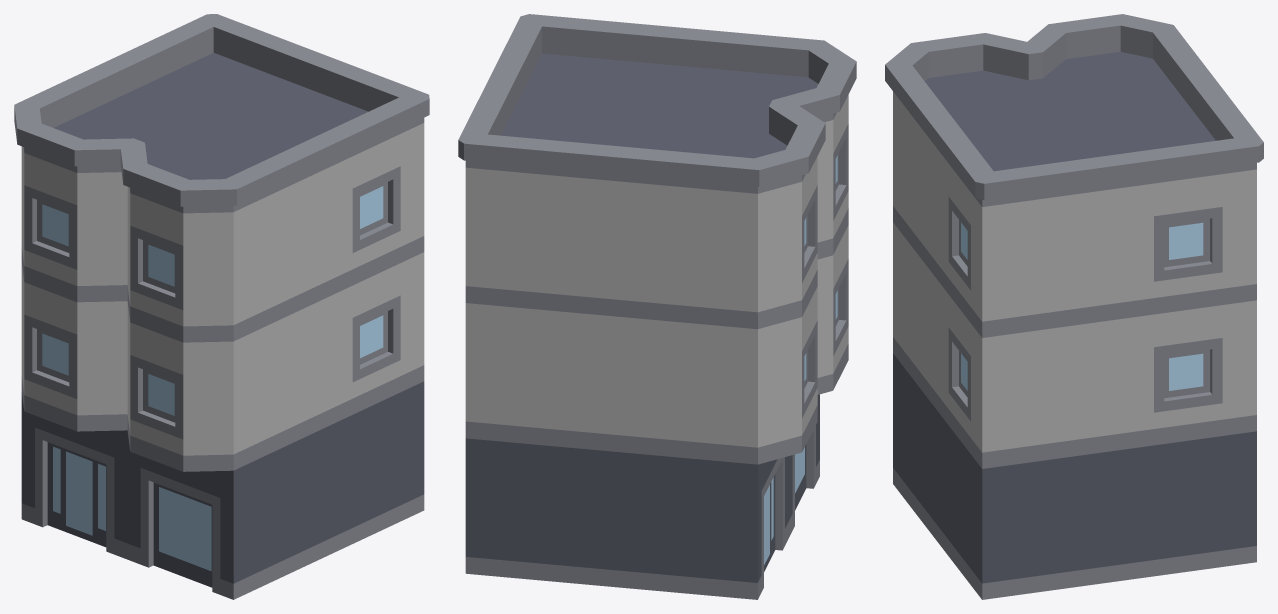
The model's file is variant_15.fbx.
3 views of the same model, side by side, from view 1: azimuth 30°, elevation 25°; view 2: azimuth 150°, elevation 25°; view 3: azimuth 270°, elevation 25° (orthographic). The views are drawn at different scales.
Parts seen in each view (by area): view 1: small_buildingA; view 2: small_buildingA; view 3: small_buildingA.
Part boxes in pixels (box(x1,y1,x2,y2)): small_buildingA: box(14, 14, 429, 599); small_buildingA: box(458, 14, 856, 599); small_buildingA: box(885, 14, 1263, 599).
Bounding box in the file's own units: 111 × 128 × 105.
